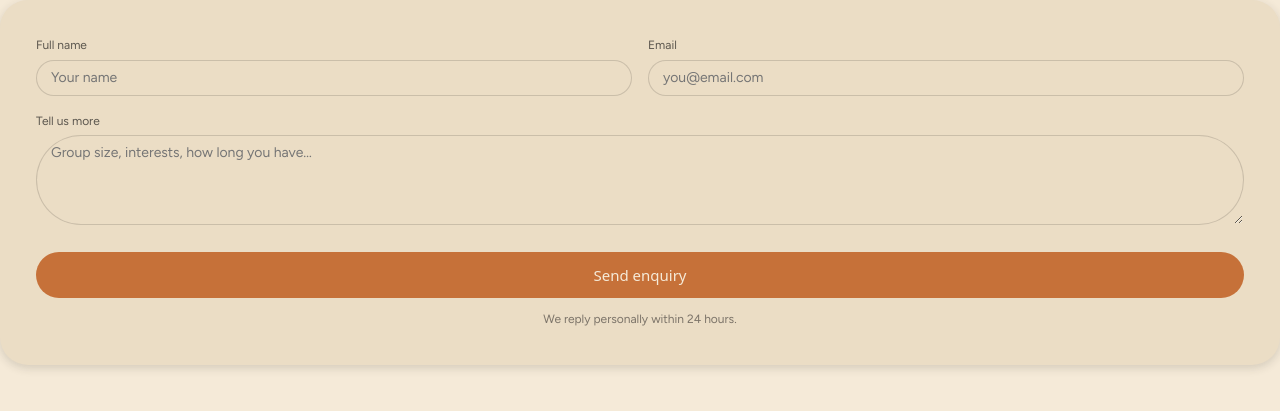
GIVEN the enquiry form with no fields filled in › WHEN the form is submitted › THEN shows a required error for name and for email
Click the button "Send enquiry": (640, 275) [36,252,1244,298]
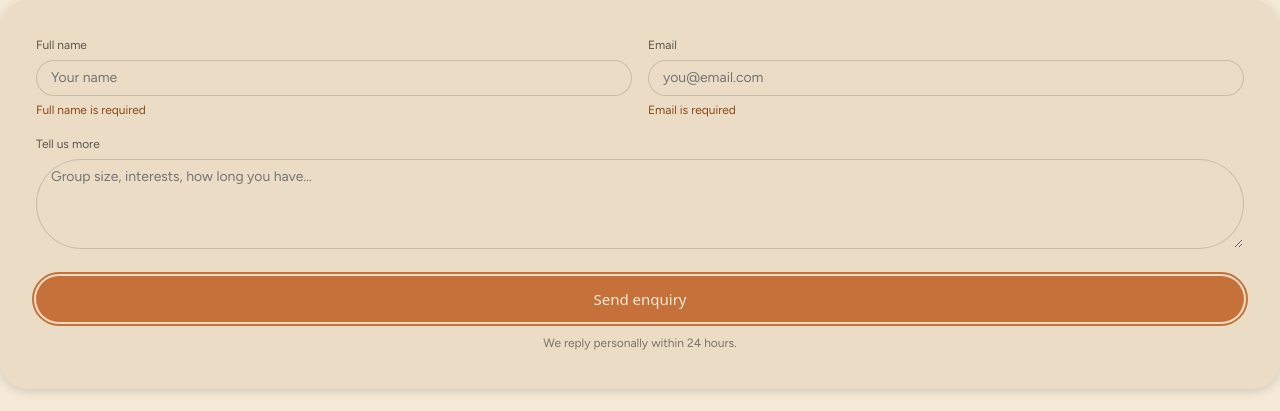
Now the text "Full name is required" is shown, box [36,103,146,117]
Now the text "Email is required" is shown, box [648,103,736,117]
